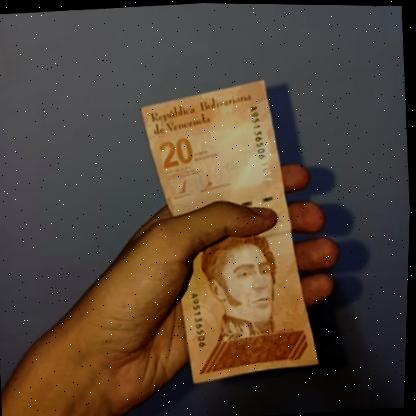twenty-front-vef: (130, 75, 328, 389)
